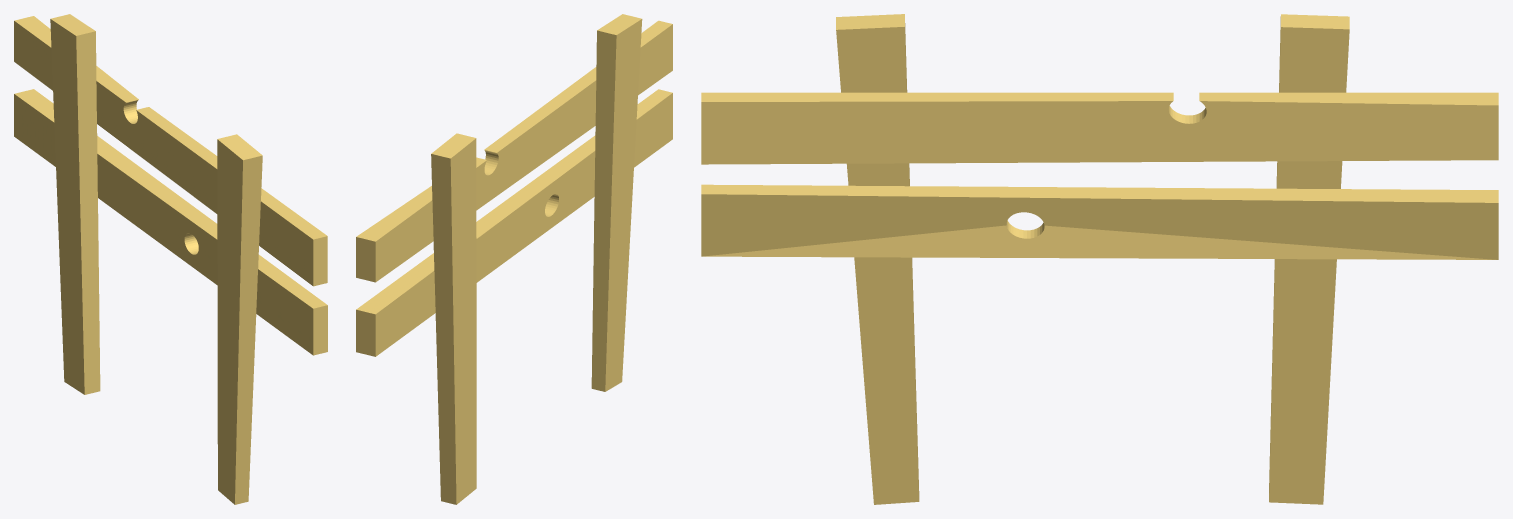
The model's file is Fence3Practice.fbx.
3 views of the same model, side by side, from view 1: azimuth 30°, elevation 25°; view 2: azimuth 150°, elevation 25°; view 3: azimuth 270°, elevation 25° (orthographic). The views are drawn at different scales.
Visible parts, largest first — view 1: Right Stake, Bottom Plank, Left Stake, Top Plank; view 2: Right Stake, Bottom Plank, Left Stake, Top Plank; view 3: Bottom Plank, Top Plank, Right Stake, Left Stake.
Boxes of the visible parts, bbox=[...] form: Right Stake: bbox=[50, 14, 100, 394]; Bottom Plank: bbox=[14, 89, 327, 355]; Left Stake: bbox=[217, 134, 262, 504]; Top Plank: bbox=[14, 16, 327, 286]; Right Stake: bbox=[431, 133, 476, 504]; Bottom Plank: bbox=[356, 89, 672, 356]; Left Stake: bbox=[591, 14, 642, 391]; Top Plank: bbox=[356, 20, 672, 282]; Bottom Plank: bbox=[701, 184, 1498, 259]; Top Plank: bbox=[701, 92, 1498, 164]; Right Stake: bbox=[1269, 14, 1349, 504]; Left Stake: bbox=[836, 14, 919, 504].
Bounding box in the file's own units: 38.78 × 338 × 510.
